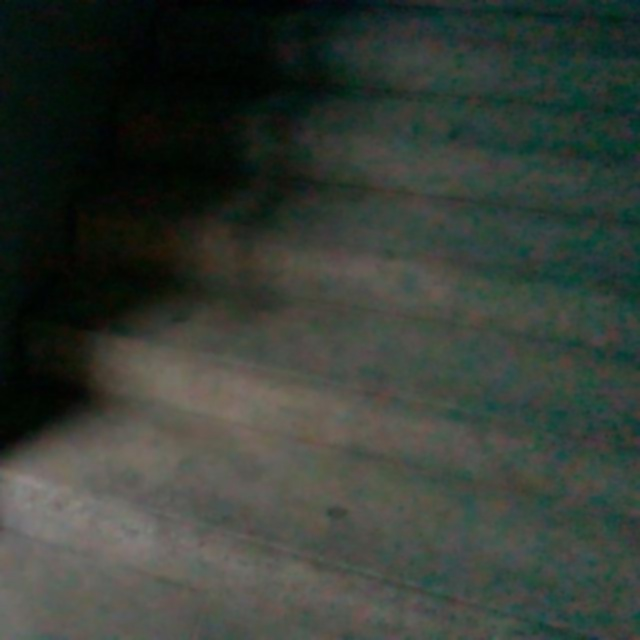stair: (19, 13, 640, 636)
